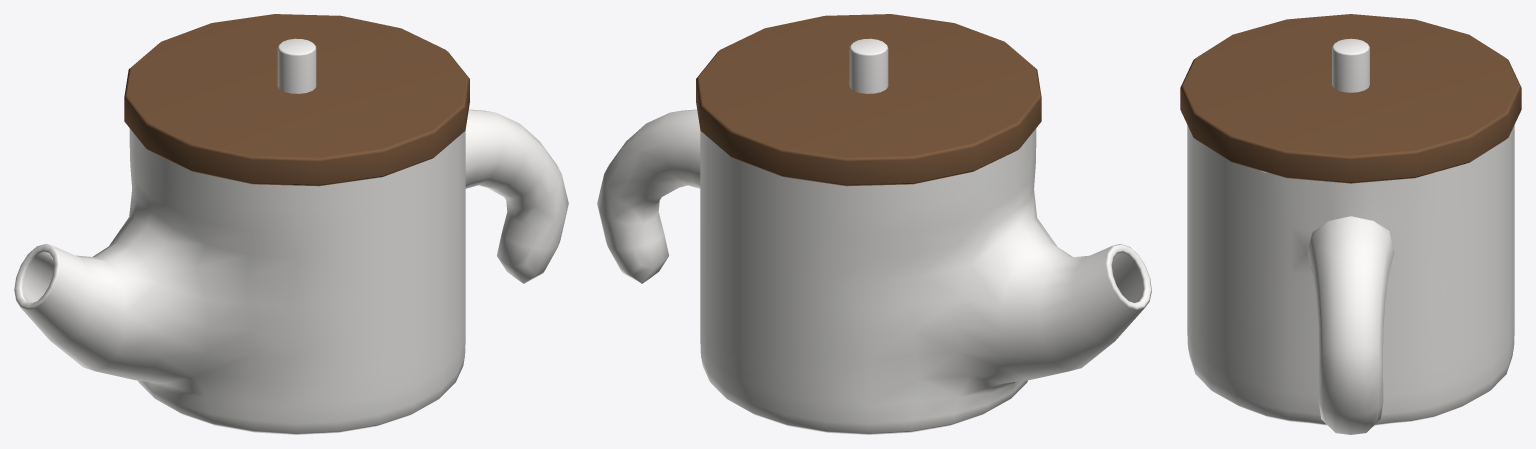
File: Teapot_1.glb
3 views of the same model, side by side, from view 1: azimuth 30°, elevation 25°; view 2: azimuth 150°, elevation 25°; view 3: azimuth 270°, elevation 25° (orthographic). The views are drawn at different scales.
Visible parts, largest first — view 1: Teapot_1; view 2: Teapot_1; view 3: Teapot_1.
Boxes of the visible parts, x1=… form: Teapot_1: x1=14, y1=14, x2=568, y2=434; Teapot_1: x1=597, y1=14, x2=1151, y2=434; Teapot_1: x1=1180, y1=14, x2=1521, y2=434.
Bounding box in the file's own units: 0.2459 × 0.14 × 0.1367.
Materials: 2 (2 with a texture image).
